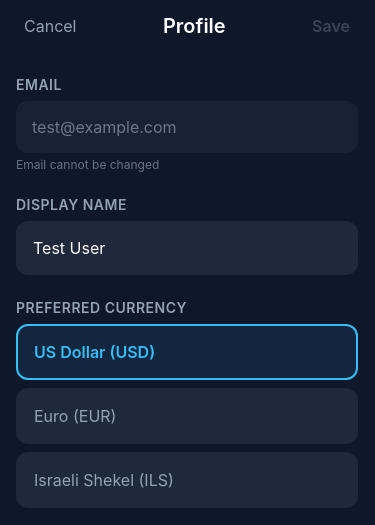
Scenario: ProfileScreen › Validation › enables save button when display name changes
Replace the text in the field with test id "profile.displayNameInput" with "New Name" at (187, 248), box [16,221,358,275]
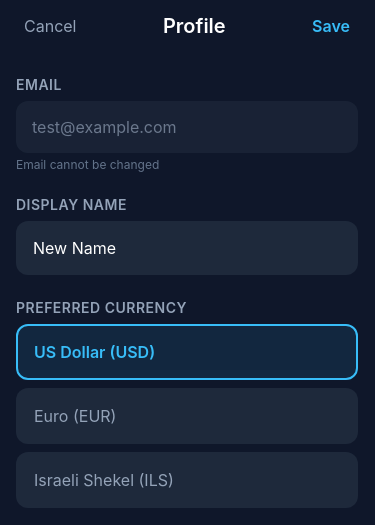
Check: the element with test id "profile.saveButton" is enabled, box [312,16,350,36]
